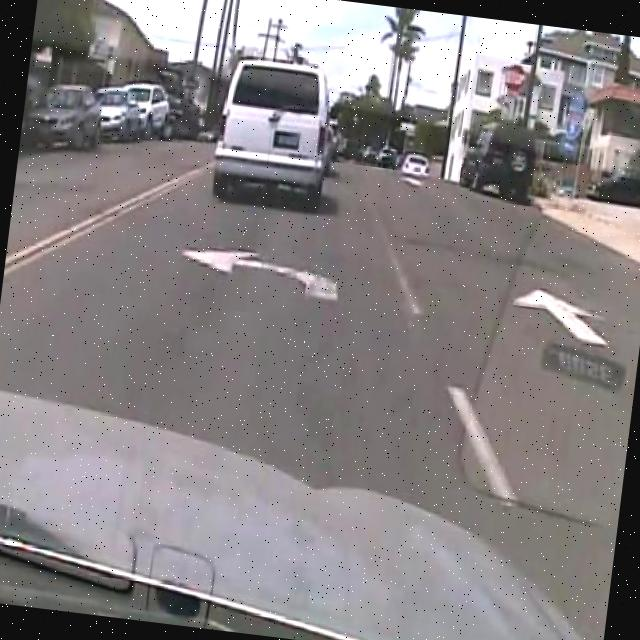Stop: (501, 61, 527, 92)
